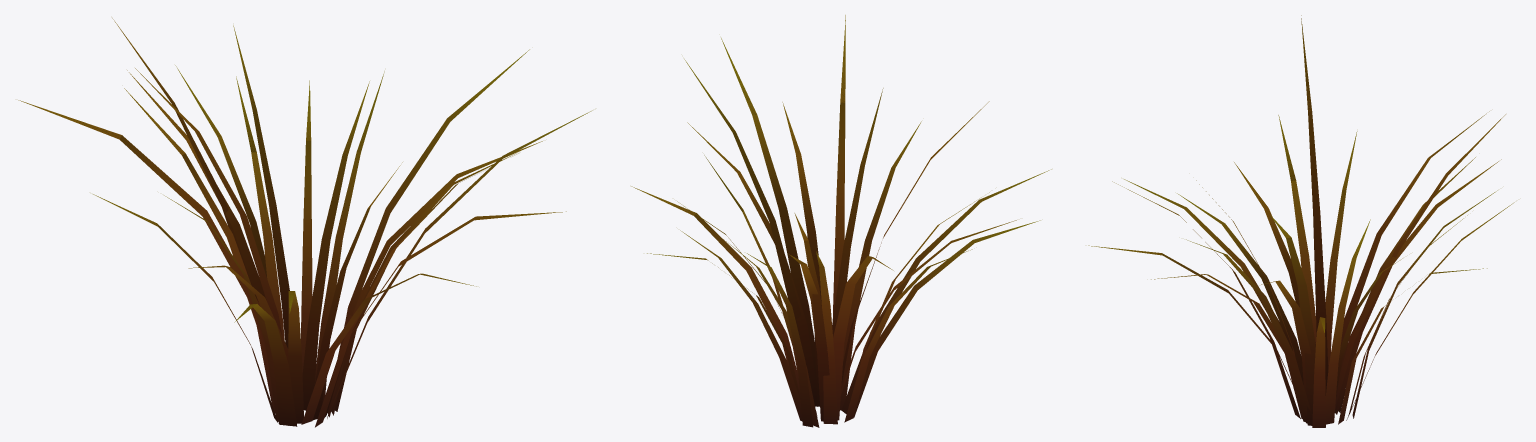
The model's file is Grass_B.fbx.
3 views of the same model, side by side, from view 1: azimuth 30°, elevation 25°; view 2: azimuth 150°, elevation 25°; view 3: azimuth 270°, elevation 25° (orthographic). The views are drawn at different scales.
Parts seen in each view (by area): view 1: Grass_B; view 2: Grass_B; view 3: Grass_B.
Boxes of the visible parts, left/top/right/bottom form: Grass_B: left=18, top=18, right=592, bottom=427; Grass_B: left=631, top=15, right=1051, bottom=427; Grass_B: left=1088, top=15, right=1514, bottom=427.
Bounding box in the file's own units: 0.6434 × 0.5881 × 0.7083.
